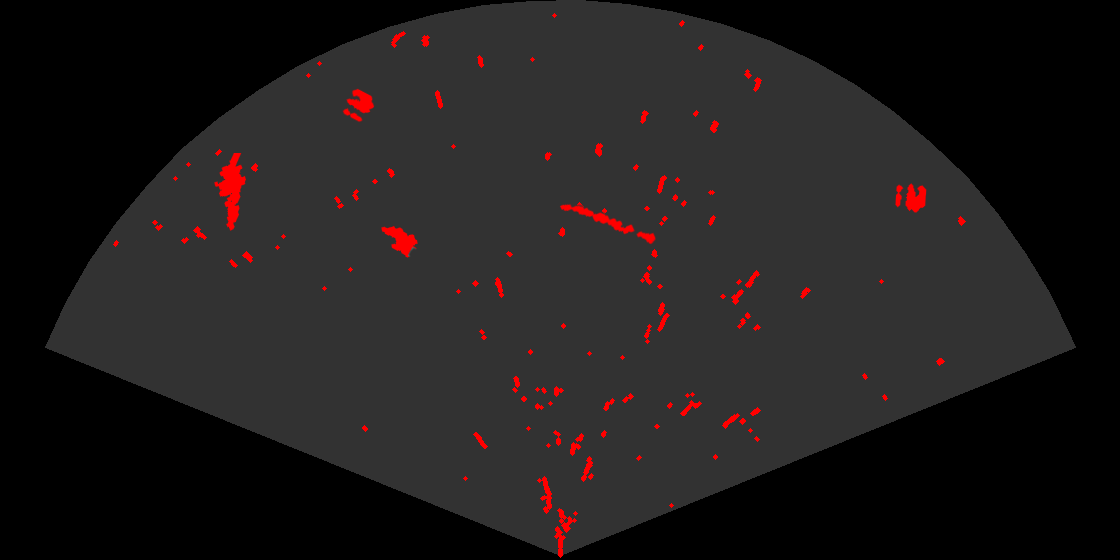AUV: (380, 224, 419, 259)
ball: (341, 87, 376, 124), (894, 182, 928, 214)
chain: (558, 202, 657, 246)
frogman: (213, 153, 248, 232)
